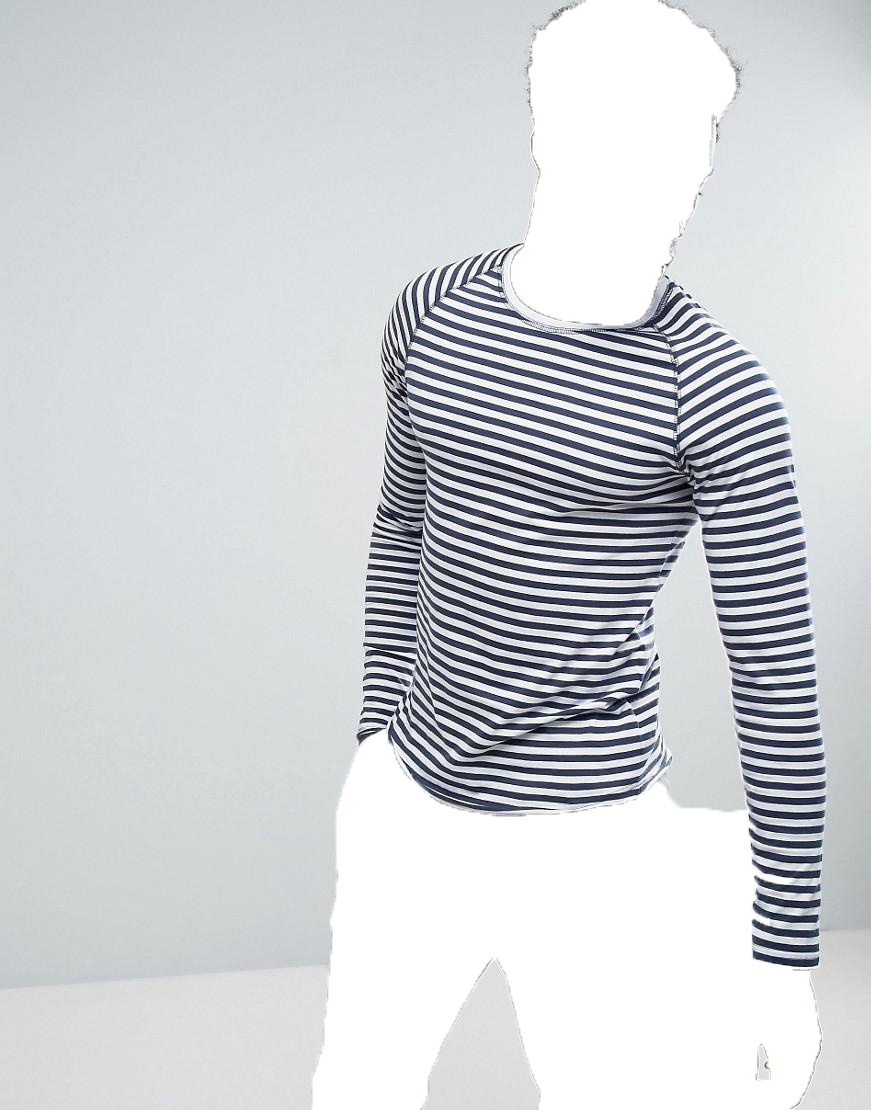teeshirt: (351, 235, 834, 974)
